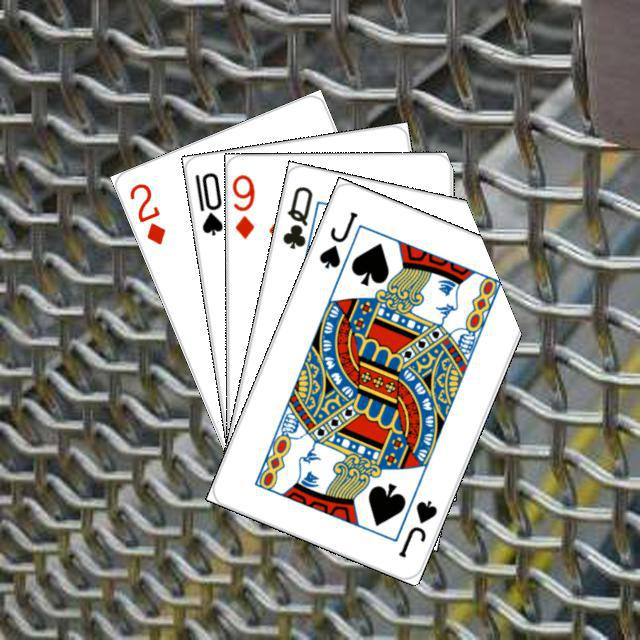10s: (189, 167, 225, 237)
2d: (124, 178, 168, 247)
9d: (229, 170, 256, 241)
Js: (393, 495, 439, 560), (314, 206, 359, 271)
Qc: (277, 181, 324, 260)
